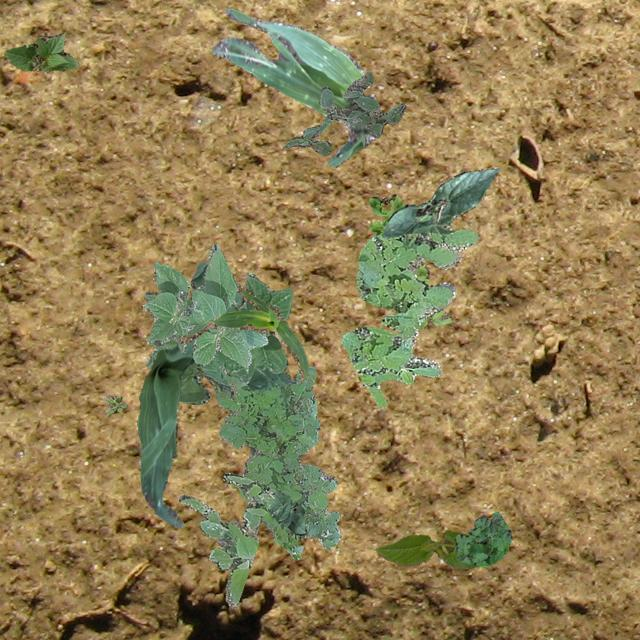crop: (212, 7, 374, 166), (142, 272, 292, 404), (142, 242, 266, 370), (178, 284, 308, 380), (136, 338, 194, 526), (380, 166, 500, 238), (374, 530, 476, 570), (2, 32, 78, 72), (190, 261, 243, 307), (264, 486, 306, 534)
weed: (340, 228, 478, 408), (218, 366, 340, 558), (178, 472, 274, 606), (368, 194, 452, 328), (282, 70, 404, 154), (454, 511, 512, 566), (102, 394, 126, 414)
